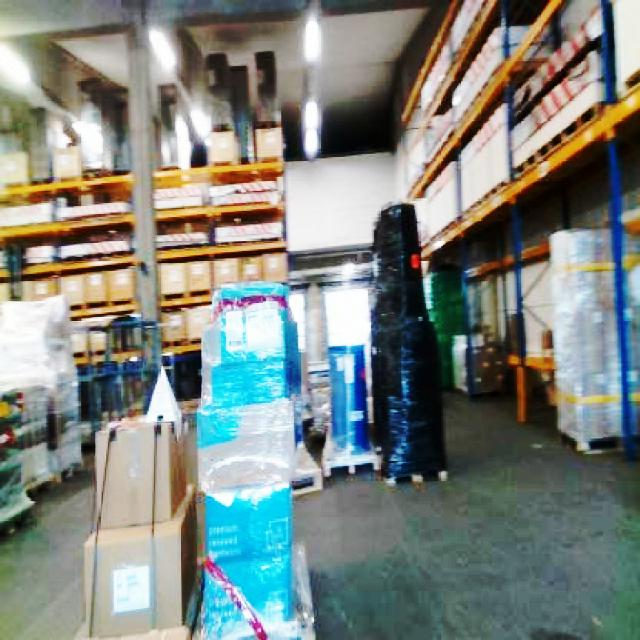ground: (0, 385, 638, 638)
pallet: (395, 0, 638, 463), (0, 154, 291, 437), (398, 0, 608, 200)
